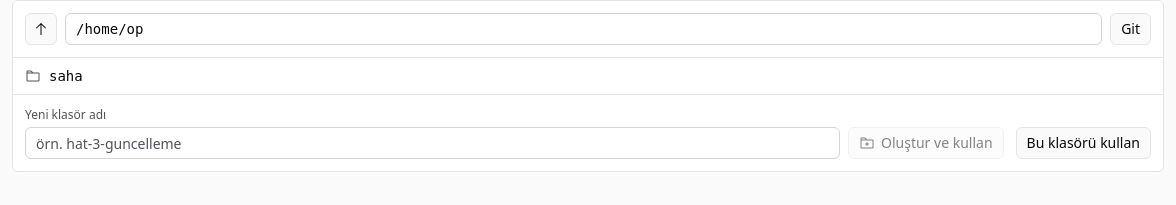
Test case: FolderBrowser › shows the new path in the address field after navigating in
The width and height of the screenshot is (1176, 205).
Check: the field named "Klasör yolu" holds "/home/op", box [65,13,1102,45]
Click the button "saha" at (66, 76), box [13,58,1163,94]
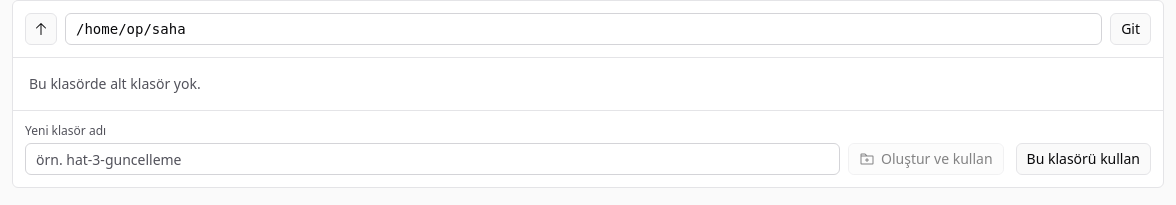
Check: the field named "Klasör yolu" holds "/home/op/saha", box [65,13,1102,45]
